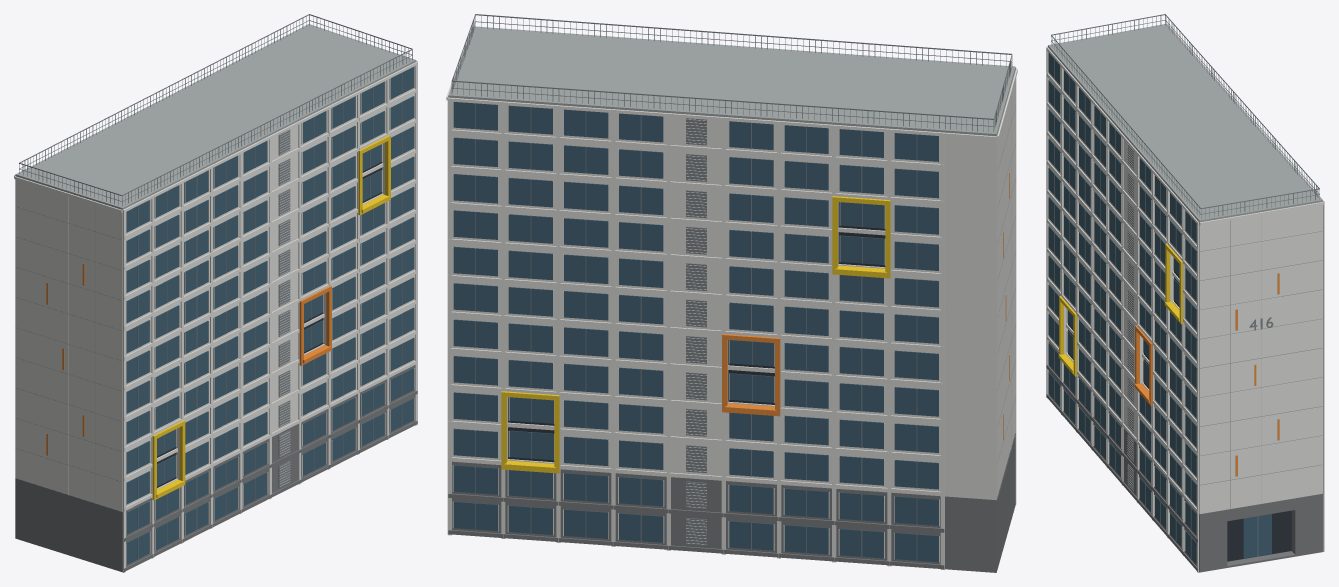
File: bespoke-songpa-helio-city-416.glb
3 renders of one model, left to right at view 1: azimuth 30°, elevation 25°; view 2: azimuth 150°, elevation 25°; view 3: azimuth 270°, elevation 25°, orthographic. The views are drawn at different scales.
Parts seen in each view (by area): view 1: Helio416_editable_Helio416_white_slab_frames006, Helio416_editable_Helio416_dark_blue_grey_glazing006, Helio416_editable_Helio416_low_roof_deck006, Helio416_editable_Helio416_dark_grey_twofloor_base006, Helio416_editable_Helio416_grey_service_grille006, Helio416_editable_Helio416_yellow_projecting_rectangular_fra, Helio416_editable_Helio416_blankwall_grey_panels006, Helio416_editable_Helio416_orange_narrow_accent006; view 2: Helio416_editable_Helio416_dark_blue_grey_glazing006, Helio416_editable_Helio416_white_slab_frames006, Helio416_editable_Helio416_low_roof_deck006, Helio416_editable_Helio416_dark_grey_twofloor_base006, Helio416_editable_Helio416_grey_service_grille006, Helio416_editable_Helio416_yellow_projecting_rectangular_fra, Helio416_editable_Helio416_blankwall_grey_panels006, Helio416_editable_Helio416_orange_narrow_accent006, Helio416_editable_Helio416_deep_shaded_frame_recess004; view 3: Helio416_editable_Helio416_white_slab_frames006, Helio416_editable_Helio416_dark_blue_grey_glazing006, Helio416_editable_Helio416_low_roof_deck006, Helio416_editable_Helio416_grey_service_grille006, Helio416_editable_Helio416_dark_grey_twofloor_base006, Helio416_editable_Helio416_deep_shaded_frame_recess004, Helio416_editable_Helio416_yellow_projecting_rectangular_fra, Helio416_editable_Helio416_blankwall_grey_panels006, Helio416_editable_Helio416_orange_narrow_accent006.
Part boxes in pixels (bbox=[...]): Helio416_editable_Helio416_white_slab_frames006: bbox=[14, 60, 417, 572]; Helio416_editable_Helio416_dark_blue_grey_glazing006: bbox=[126, 67, 413, 564]; Helio416_editable_Helio416_low_roof_deck006: bbox=[15, 24, 416, 209]; Helio416_editable_Helio416_dark_grey_twofloor_base006: bbox=[15, 365, 417, 572]; Helio416_editable_Helio416_grey_service_grille006: bbox=[15, 14, 412, 559]; Helio416_editable_Helio416_yellow_projecting_rectangular_fra: bbox=[152, 135, 390, 500]; Helio416_editable_Helio416_blankwall_grey_panels006: bbox=[68, 129, 290, 503]; Helio416_editable_Helio416_orange_narrow_accent006: bbox=[46, 264, 331, 455]; Helio416_editable_Helio416_dark_blue_grey_glazing006: bbox=[453, 102, 939, 562]; Helio416_editable_Helio416_white_slab_frames006: bbox=[446, 28, 1017, 569]; Helio416_editable_Helio416_low_roof_deck006: bbox=[448, 26, 1015, 135]; Helio416_editable_Helio416_dark_grey_twofloor_base006: bbox=[448, 433, 1015, 572]; Helio416_editable_Helio416_grey_service_grille006: bbox=[451, 14, 1016, 560]; Helio416_editable_Helio416_yellow_projecting_rectangular_fra: bbox=[501, 196, 890, 473]; Helio416_editable_Helio416_blankwall_grey_panels006: bbox=[686, 94, 1011, 544]; Helio416_editable_Helio416_orange_narrow_accent006: bbox=[722, 172, 1009, 440]; Helio416_editable_Helio416_deep_shaded_frame_recess004: bbox=[508, 202, 885, 462]; Helio416_editable_Helio416_white_slab_frames006: bbox=[1046, 25, 1324, 572]; Helio416_editable_Helio416_dark_blue_grey_glazing006: bbox=[1048, 52, 1271, 563]; Helio416_editable_Helio416_low_roof_deck006: bbox=[1048, 23, 1322, 222]; Helio416_editable_Helio416_grey_service_grille006: bbox=[1051, 14, 1322, 558]; Helio416_editable_Helio416_dark_grey_twofloor_base006: bbox=[1046, 341, 1322, 572]; Helio416_editable_Helio416_deep_shaded_frame_recess004: bbox=[1068, 271, 1291, 561]; Helio416_editable_Helio416_yellow_projecting_rectangular_fra: bbox=[1058, 243, 1184, 376]; Helio416_editable_Helio416_blankwall_grey_panels006: bbox=[1127, 144, 1261, 508]; Helio416_editable_Helio416_orange_narrow_accent006: bbox=[1134, 273, 1279, 476].
Size of the model in its own units: 40.56 by 34.6 by 24.05.
